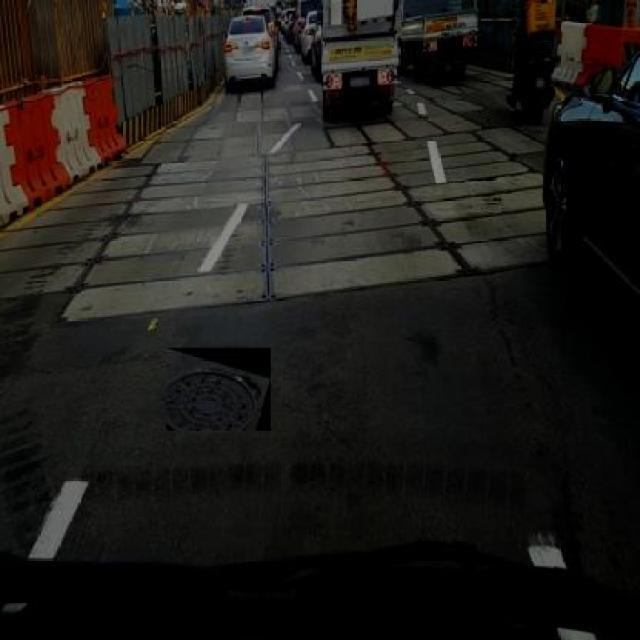Manhole: (166, 346, 271, 432)
